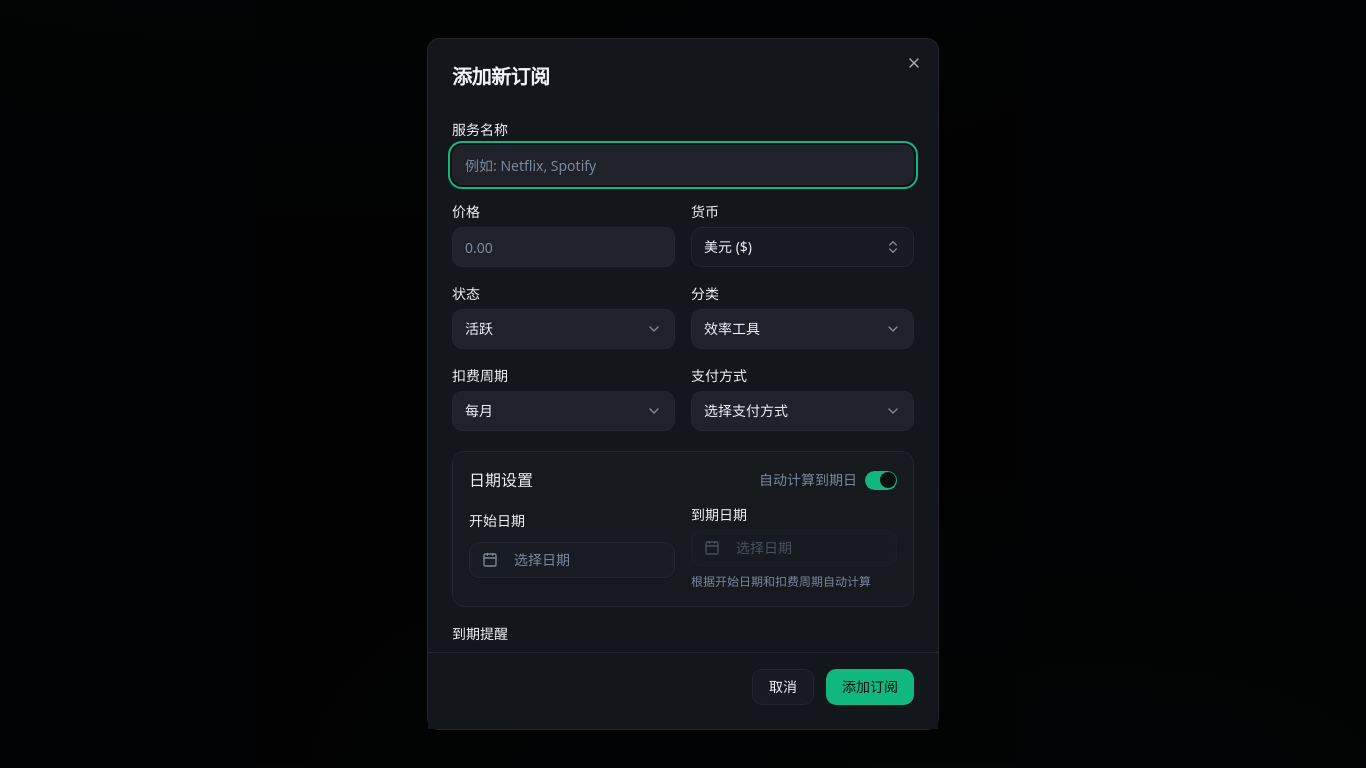
Test: SubscriptionDialog › shows field errors on empty create submit instead of relying on native validation
This screenshot has width=1366, height=768.
Click the button "添加订阅": (870, 687) [826, 669, 914, 705]
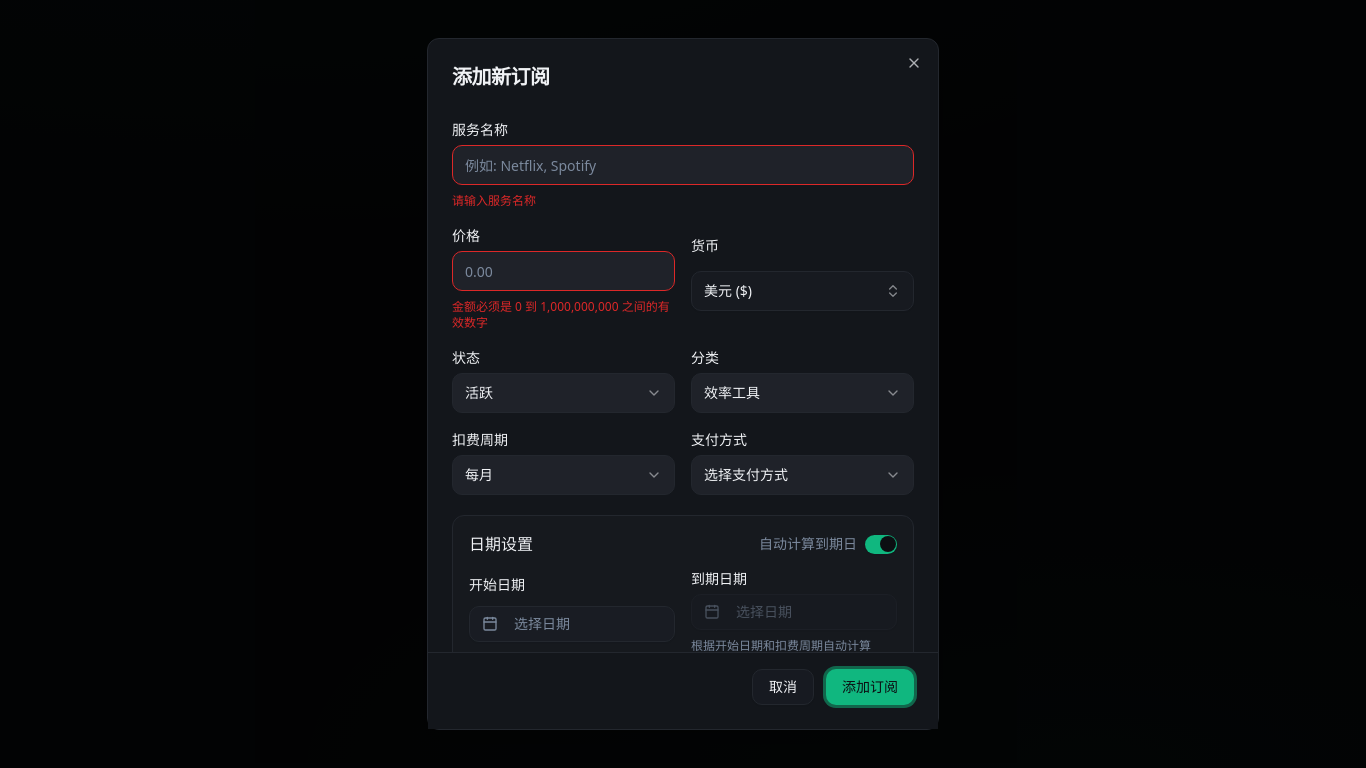
Expected: the text "请输入服务名称" is shown, [452, 192, 536, 209]
Expected: the text "金额必须是 0 到 1,000,000,000 之间的有效数字" is shown, [452, 299, 675, 331]
